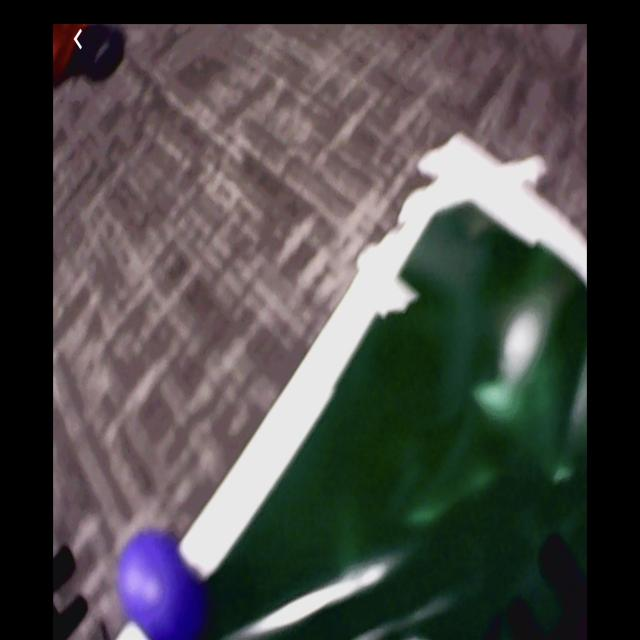ball: (121, 532, 193, 640)
